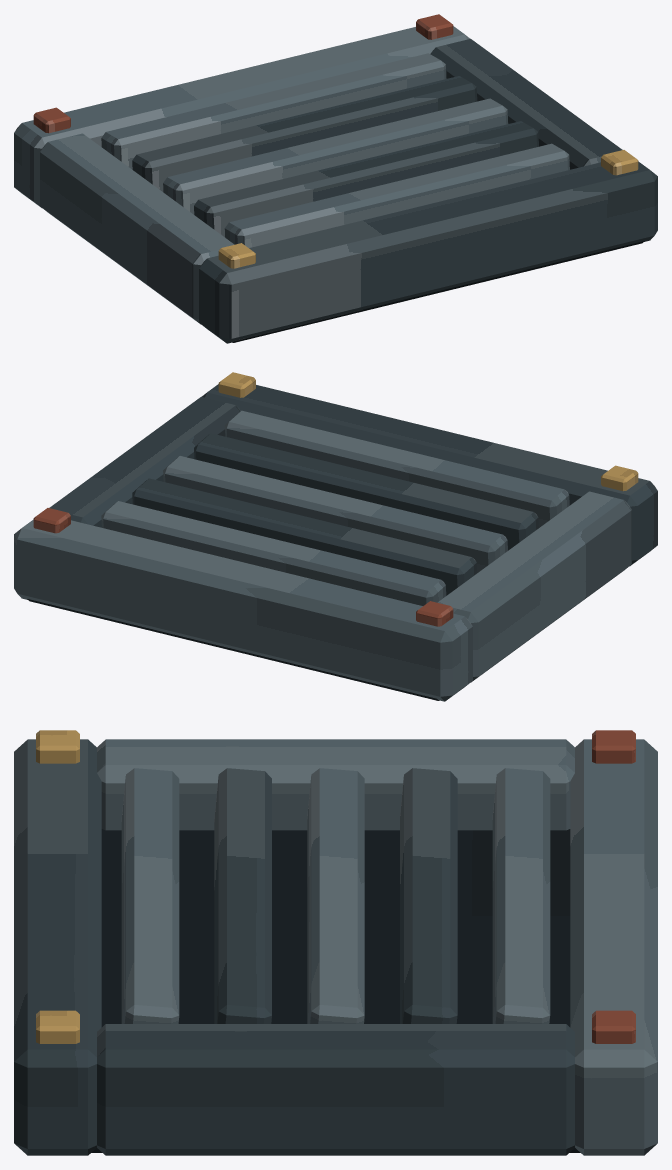
Rendered from vent.glb.
3 renders of one model, top to bottom at view 1: azimuth 30°, elevation 25°; view 2: azimuth 150°, elevation 25°; view 3: azimuth 270°, elevation 25°, orthographic. The views are drawn at different scales.
Visible parts, largest first — view 1: FrameNear, FrameLeft, FrameFar, Slat_1, Slat_5, Slat_4, Slat_3, Slat_2, FrameRight, VentVoid, SquareBolt_1, SquareBolt_4 (+2 smaller); view 2: FrameFar, FrameLeft, FrameNear, Slat_5, Slat_1, Slat_2, Slat_3, Slat_4, FrameRight, VentVoid, SquareBolt_3, SquareBolt_2 (+2 smaller); view 3: FrameRight, VentVoid, FrameFar, FrameNear, FrameLeft, Slat_5, Slat_1, Slat_4, Slat_3, Slat_2, SquareBolt_1, SquareBolt_3 (+2 smaller).
Boxes of the visible parts, x1=… form: FrameNear: x1=199, y1=161, x2=657, y2=343; FrameLeft: x1=40, y1=133, x2=234, y2=324; FrameFar: x1=14, y1=26, x2=469, y2=207; Slat_1: x1=224, y1=143, x2=569, y2=247; Slat_5: x1=101, y1=53, x2=446, y2=169; Slat_4: x1=132, y1=76, x2=477, y2=191; Slat_3: x1=163, y1=98, x2=508, y2=214; Slat_2: x1=194, y1=121, x2=538, y2=237; FrameRight: x1=430, y1=38, x2=622, y2=169; VentVoid: x1=232, y1=241, x2=644, y2=342; SquareBolt_1: x1=218, y1=243, x2=255, y2=268; SquareBolt_4: x1=416, y1=14, x2=453, y2=39; FrameFar: x1=14, y1=519, x2=472, y2=701; FrameLeft: x1=437, y1=491, x2=631, y2=682; FrameNear: x1=202, y1=384, x2=657, y2=565; Slat_5: x1=101, y1=501, x2=446, y2=605; Slat_1: x1=224, y1=410, x2=569, y2=527; Slat_2: x1=194, y1=433, x2=538, y2=550; Slat_3: x1=163, y1=456, x2=507, y2=572; Slat_4: x1=132, y1=478, x2=477, y2=595; FrameRight: x1=49, y1=396, x2=240, y2=527; VentVoid: x1=27, y1=599, x2=439, y2=700; SquareBolt_3: x1=416, y1=601, x2=453, y2=626; SquareBolt_2: x1=218, y1=372, x2=255, y2=397; FrameRight: x1=97, y1=1024, x2=574, y2=1155; VentVoid: x1=91, y1=829, x2=580, y2=1152; FrameFar: x1=570, y1=739, x2=657, y2=1155; FrameNear: x1=14, y1=739, x2=101, y2=1155; FrameLeft: x1=97, y1=739, x2=574, y2=830; Slat_5: x1=492, y1=768, x2=550, y2=1023; Slat_1: x1=121, y1=768, x2=179, y2=1023; Slat_4: x1=400, y1=768, x2=457, y2=1023; Slat_3: x1=307, y1=768, x2=364, y2=1023; Slat_2: x1=214, y1=768, x2=271, y2=1023; SquareBolt_1: x1=36, y1=730, x2=79, y2=763; SquareBolt_3: x1=592, y1=730, x2=635, y2=763.
Bounding box in the file's own units: 0.78 × 0.141 × 0.66.
Materials: 1 (1 with a texture image).
